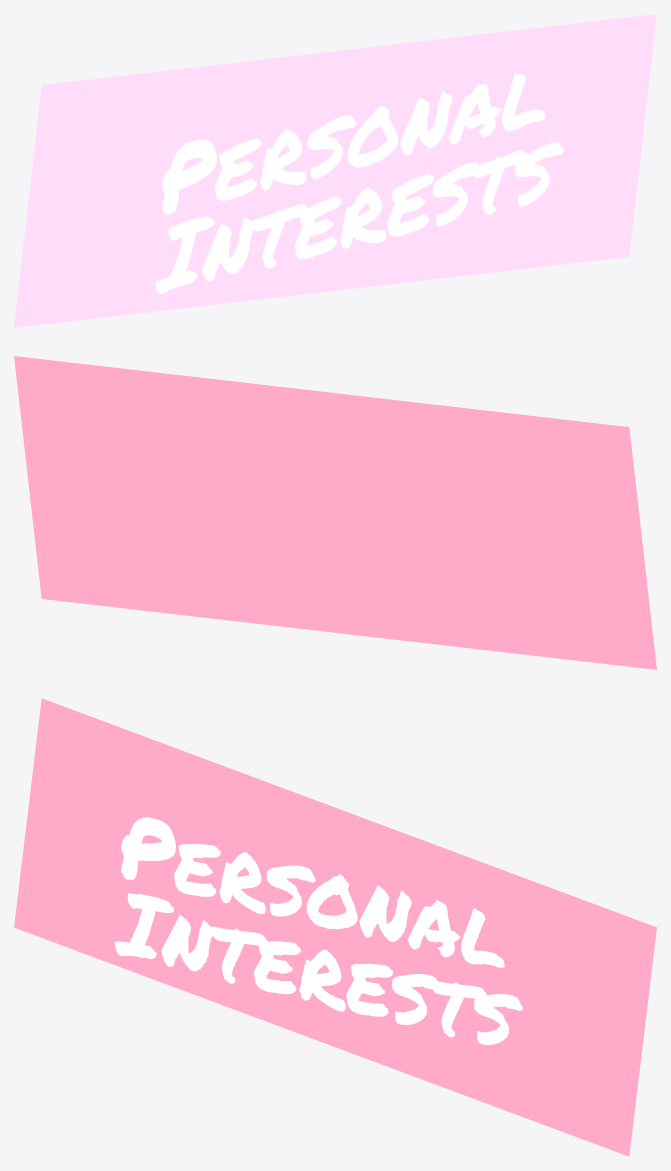
Rendered from btninterests.f848adb9.gltf.
3 renders of one model, top to bottom at view 1: azimuth 30°, elevation 25°; view 2: azimuth 150°, elevation 25°; view 3: azimuth 330°, elevation 25°, orthographic.
Parts seen in each view (by area): view 1: Plane.027, btn Personal Interest; view 2: Plane.027; view 3: Plane.027, btn Personal Interest.
Part boxes in pixels (<box>): Plane.027: <box>14,14,656,327</box>; btn Personal Interest: <box>155,74,563,294</box>; Plane.027: <box>14,356,656,669</box>; Plane.027: <box>14,698,656,1156</box>; btn Personal Interest: <box>114,817,522,1044</box>.
Size of the model in its own units: 3.11 by 1.46 by 0.1711.
